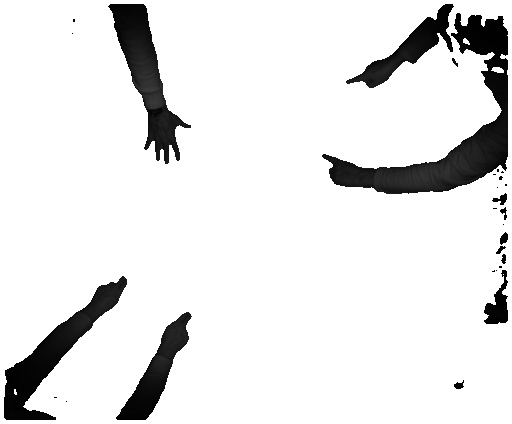hand: (144, 115, 191, 167), (320, 152, 369, 191), (91, 272, 127, 317), (344, 60, 396, 87), (160, 312, 191, 357)
